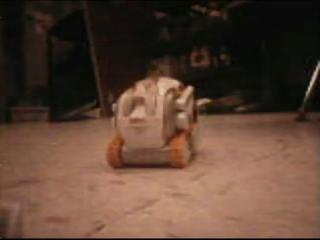cozmo: (104, 60, 204, 169)
